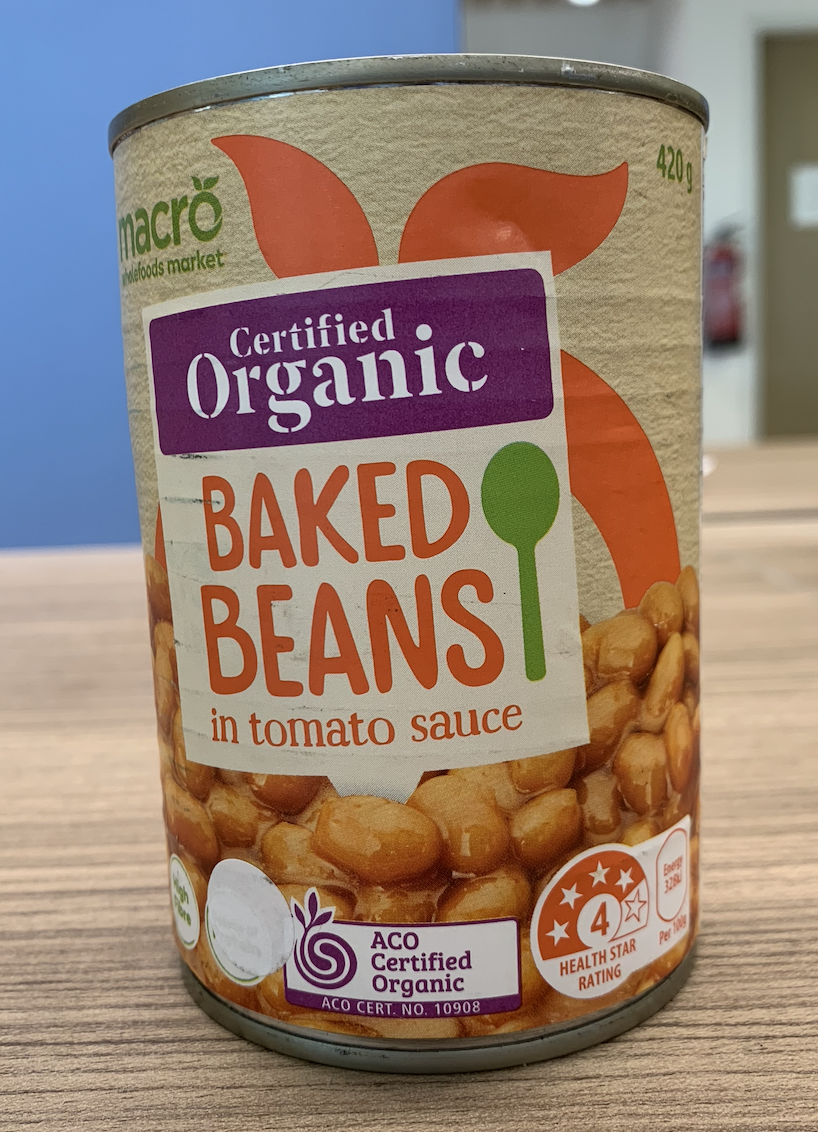Baked beans_400-499g: (163, 123, 683, 1018)
